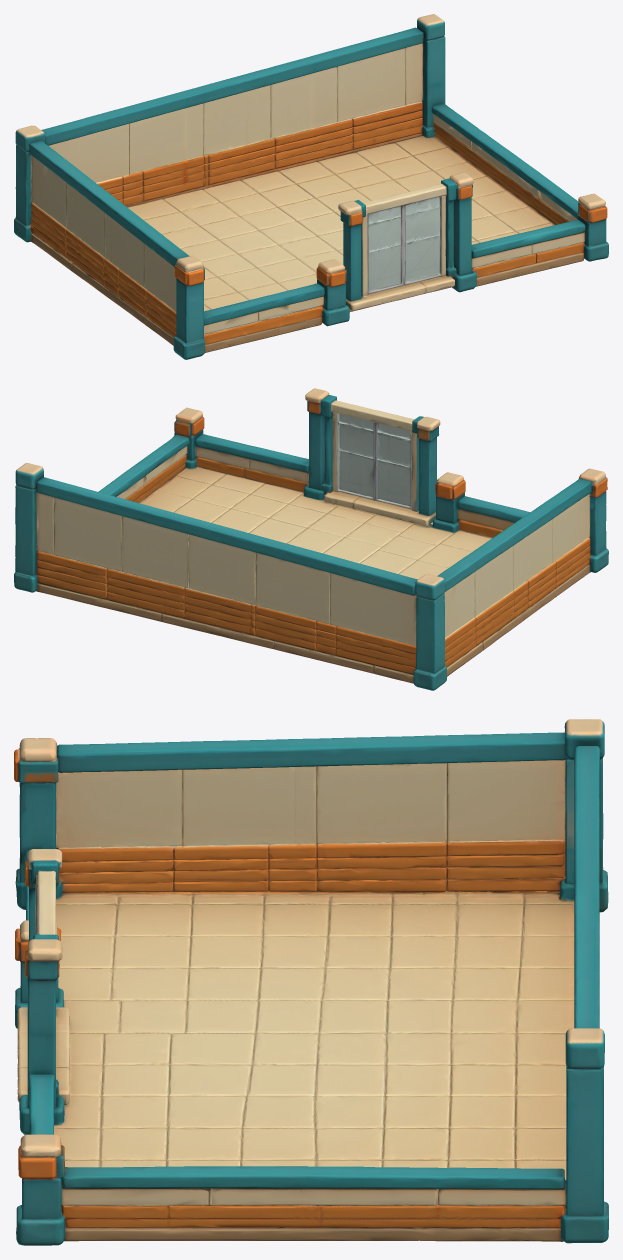
File: MarketStructure.glb
The picture shows the model from 3 angles, top to bottom: view 1: azimuth 30°, elevation 25°; view 2: azimuth 150°, elevation 25°; view 3: azimuth 270°, elevation 25°; orthographic projection. The views are drawn at different scales.
Parts seen in each view (by area): view 1: tripo_node_e3203794-225d-4f5c-a528-25905f39e2f2; view 2: tripo_node_e3203794-225d-4f5c-a528-25905f39e2f2; view 3: tripo_node_e3203794-225d-4f5c-a528-25905f39e2f2.
Part boxes in pixels (x1,y1,x2,y2): tripo_node_e3203794-225d-4f5c-a528-25905f39e2f2: [14, 14, 608, 359]; tripo_node_e3203794-225d-4f5c-a528-25905f39e2f2: [14, 388, 608, 690]; tripo_node_e3203794-225d-4f5c-a528-25905f39e2f2: [14, 719, 608, 1245].
Bounding box in the file's own units: 0.9803 × 0.2654 × 0.6987.
Materials: 1 (1 with a texture image).
